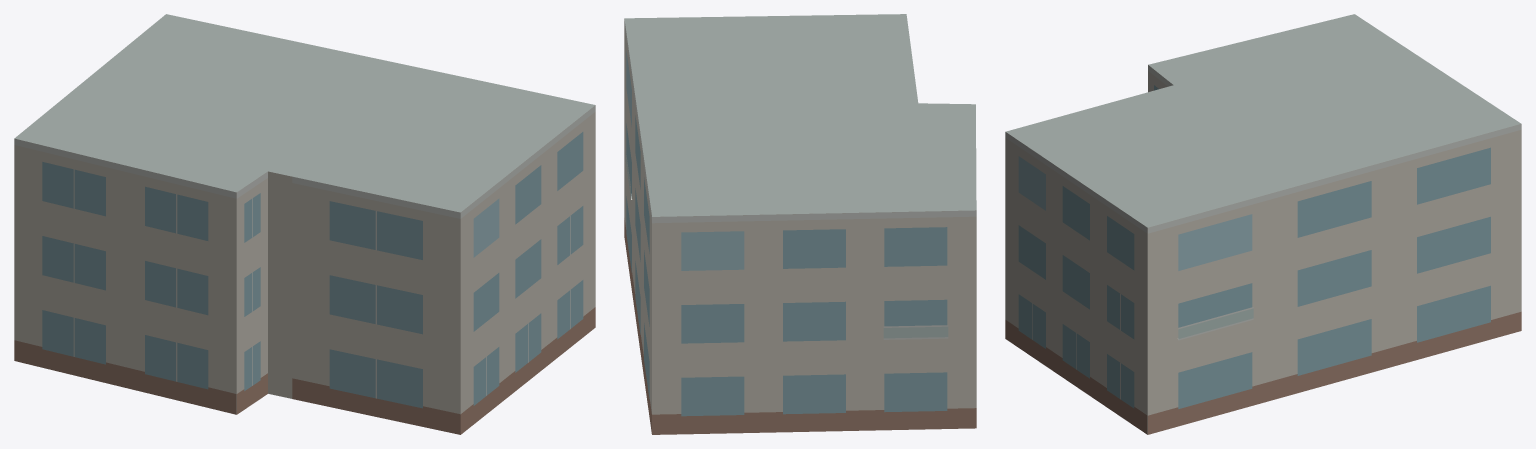
The model's file is survey-upis-32613325.glb.
3 renders of one model, left to right at view 1: azimuth 30°, elevation 25°; view 2: azimuth 150°, elevation 25°; view 3: azimuth 270°, elevation 25°, orthographic. The views are drawn at different scales.
Parts seen in each view (by area): view 1: survey-upis-32613325.tmp; view 2: survey-upis-32613325.tmp; view 3: survey-upis-32613325.tmp.
Part boxes in pixels (x1,y1,x2,y2): survey-upis-32613325.tmp: (14, 14, 595, 434); survey-upis-32613325.tmp: (624, 14, 976, 434); survey-upis-32613325.tmp: (1005, 14, 1521, 434).
Size of the model in its own units: 18.83 by 8.5 by 19.21.
